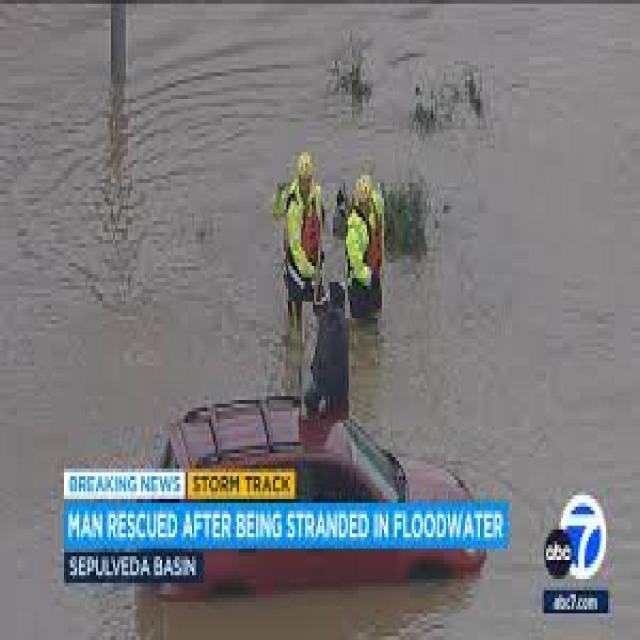rescuer: (279, 140, 325, 322), (345, 160, 386, 347)
